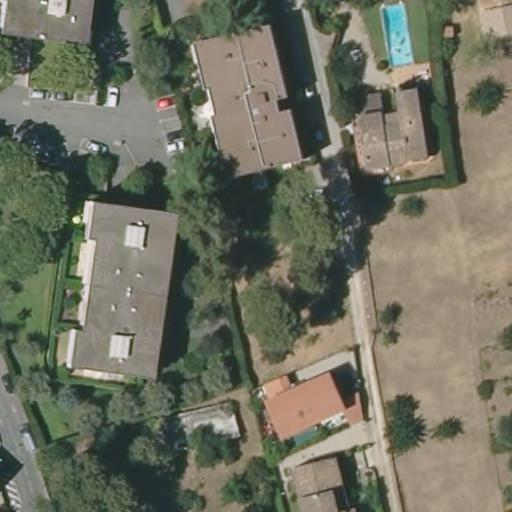pool: (377, 0, 420, 68)
